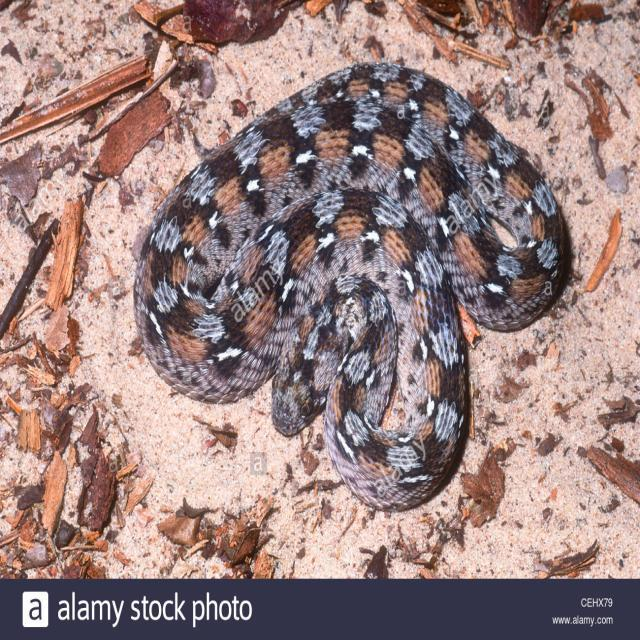Snake: (131, 51, 574, 511)
